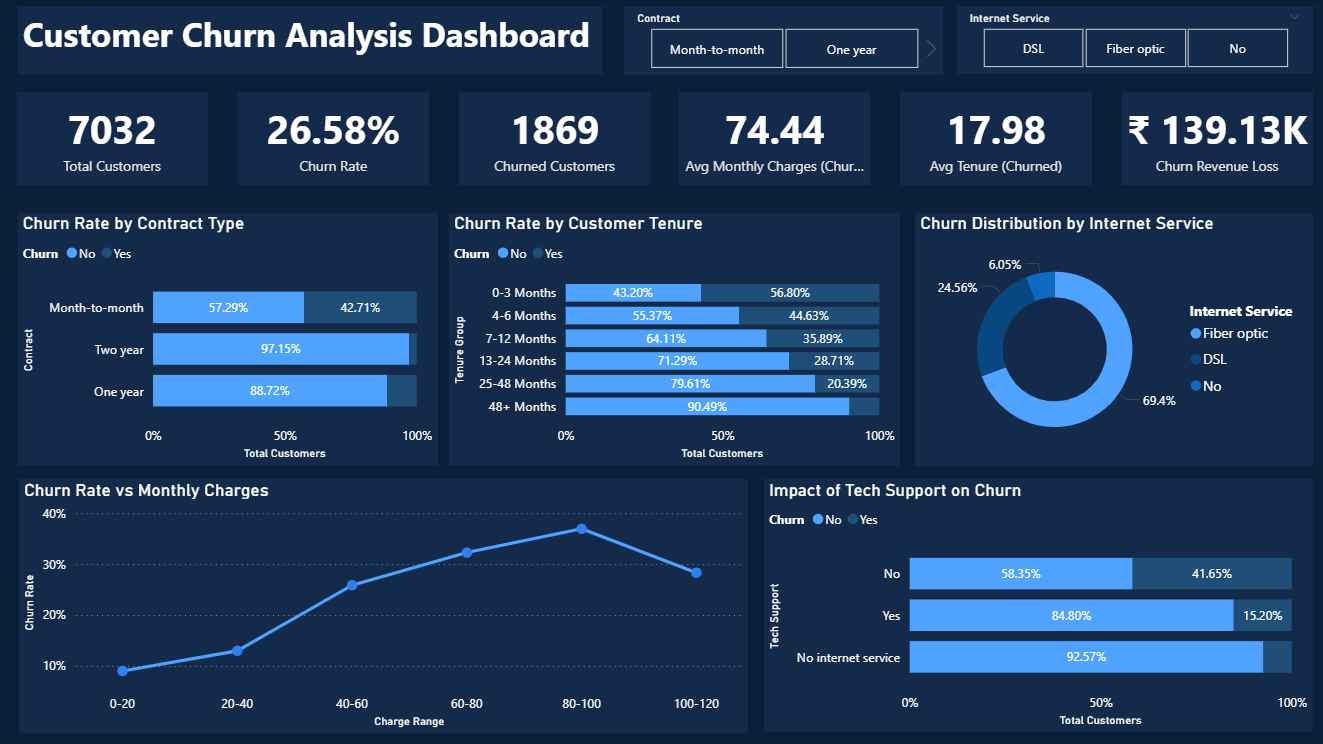

The page's visual inventory and layout, read from the dashboard file:
{"tool":"powerbi","page":{"name":"Page 1","canvas":[1280,720],"ordinal":0},"visuals":[{"type":"card","fields":{"Values":["Telco-Customer-Churn.Churn Rate"]},"box":[230.2,89.3,185,90.5],"z":0},{"type":"card","fields":{"Values":["Telco-Customer-Churn.Total Customers"]},"box":[16.9,89.3,185,90],"z":1000},{"type":"card","fields":{"Values":["Telco-Customer-Churn.Churned Customers"]},"box":[443.5,89.3,185,90],"z":2000},{"type":"card","fields":{"Values":["Telco-Customer-Churn.Avg Monthly Charges (Churned)"]},"box":[656.8,89.3,185,90],"z":3000},{"type":"card","fields":{"Values":["Telco-Customer-Churn.Avg Tenure (Churned)"]},"box":[870.1,89.3,185,90],"z":4000},{"type":"hundredPercentStackedBarChart","title":"Churn Rate by Contract Type","fields":{"Category":["Telco-Customer-Churn.Contract"],"Y":["Telco-Customer-Churn.Total Customers"],"Series":["Telco-Customer-Churn.Churn"]},"box":[18.1,206.3,405.4,243.7],"z":5000},{"type":"hundredPercentStackedBarChart","title":"Churn Rate by Customer Tenure","fields":{"Category":["Telco-Customer-Churn.Tenure Group"],"Y":["Telco-Customer-Churn.Total Customers"],"Series":["Telco-Customer-Churn.Churn"]},"box":[434.3,206.3,435.5,243.7],"z":6000},{"type":"hundredPercentStackedBarChart","title":"Impact of Tech Support on Churn","fields":{"Category":["Telco-Customer-Churn.Tech Support"],"Y":["Telco-Customer-Churn.Total Customers"],"Series":["Telco-Customer-Churn.Churn"]},"box":[738.3,463.3,529.6,243.7],"z":7000},{"type":"textbox","box":[17.8,6.9,564,65.9],"z":8000},{"type":"slicer","fields":{"Values":["Telco-Customer-Churn.Contract"]},"box":[603.2,7.2,307.6,66.4],"z":9000},{"type":"slicer","fields":{"Values":["Telco-Customer-Churn.Internet Service"]},"box":[924.1,7.2,343.8,65.1],"z":10000},{"type":"donutChart","title":"Churn Distribution by Internet Service","fields":{"Category":["Telco-Customer-Churn.Internet Service"],"Y":["Telco-Customer-Churn.Churned Customers"]},"box":[884.3,206.3,383.6,244.9],"z":11000},{"type":"lineChart","title":"Churn Rate vs Monthly Charges","fields":{"Y":["Telco-Customer-Churn.Churn Rate"],"Category":["Telco-Customer-Churn.Charge Range"]},"box":[19.3,463.3,703.4,244.9],"z":12000},{"type":"card","fields":{"Values":["Telco-Customer-Churn.Churn Revenue Loss"]},"box":[1083.4,89.3,185,90.5],"z":13000}]}

Visuals, with their boxes in screenshot pixels (x1, y1, x2, y2), scaled from the page's 1280x720 canvas onto the 1323x744 screenshot:
card - Telco-Customer-Churn.Churn Rate: x1=238 y1=92 x2=429 y2=186
card - Telco-Customer-Churn.Total Customers: x1=17 y1=92 x2=209 y2=185
card - Telco-Customer-Churn.Churned Customers: x1=458 y1=92 x2=650 y2=185
card - Telco-Customer-Churn.Avg Monthly Charges (Churned): x1=679 y1=92 x2=870 y2=185
card - Telco-Customer-Churn.Avg Tenure (Churned): x1=899 y1=92 x2=1091 y2=185
"Churn Rate by Contract Type" hundredPercentStackedBarChart: x1=19 y1=213 x2=438 y2=465
"Churn Rate by Customer Tenure" hundredPercentStackedBarChart: x1=449 y1=213 x2=899 y2=465
"Impact of Tech Support on Churn" hundredPercentStackedBarChart: x1=763 y1=479 x2=1310 y2=731
textbox: x1=18 y1=7 x2=601 y2=75
slicer - Telco-Customer-Churn.Contract: x1=623 y1=7 x2=941 y2=76
slicer - Telco-Customer-Churn.Internet Service: x1=955 y1=7 x2=1310 y2=75
"Churn Distribution by Internet Service" donutChart: x1=914 y1=213 x2=1310 y2=466
"Churn Rate vs Monthly Charges" lineChart: x1=20 y1=479 x2=747 y2=732
card - Telco-Customer-Churn.Churn Revenue Loss: x1=1120 y1=92 x2=1311 y2=186
